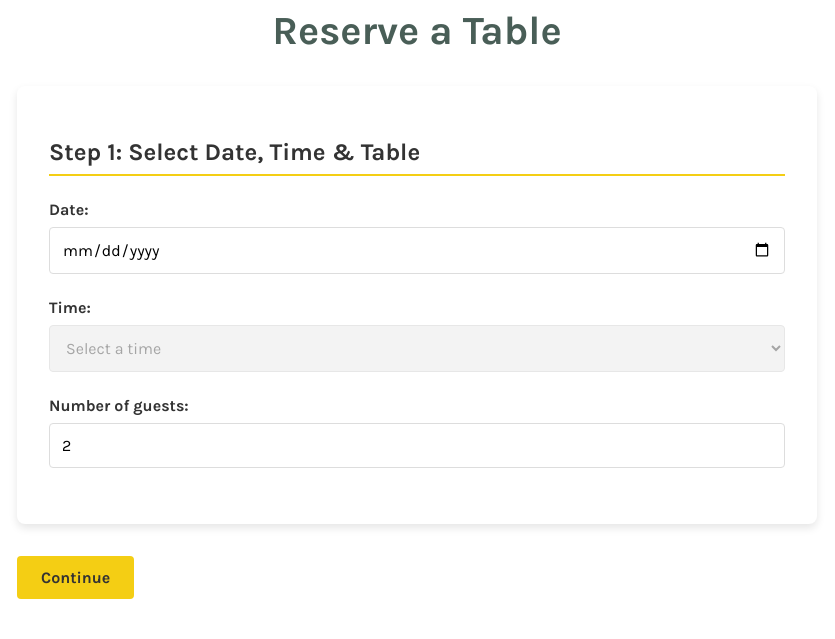
Test: ReservationPage Component › shows form errors when continuing without selections
Try to continue without selecting anything
Click the button "Continue". click: (76, 577)
box: top-left (17, 556), bottom-right (134, 599)
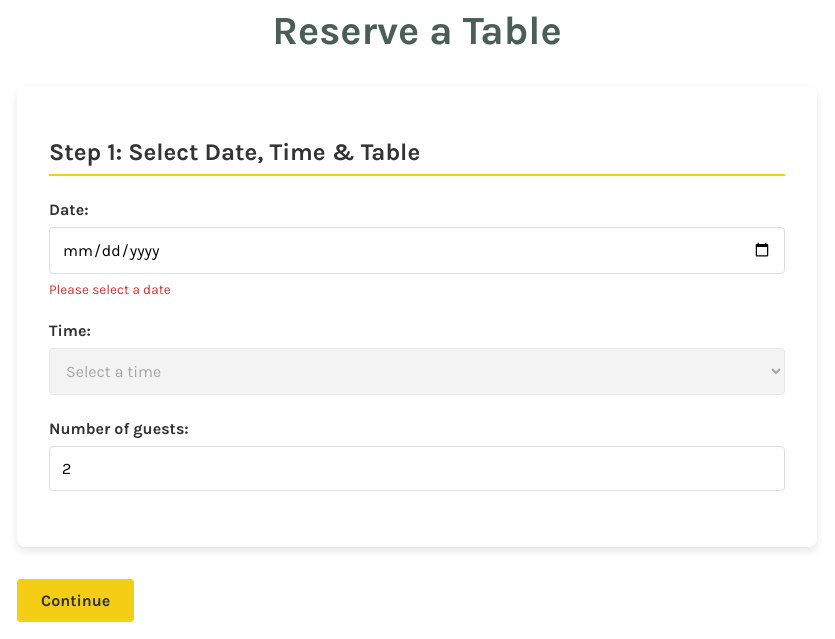
expect the text "Please select a date" is shown: met, box top-left (49, 282), bottom-right (171, 297)
